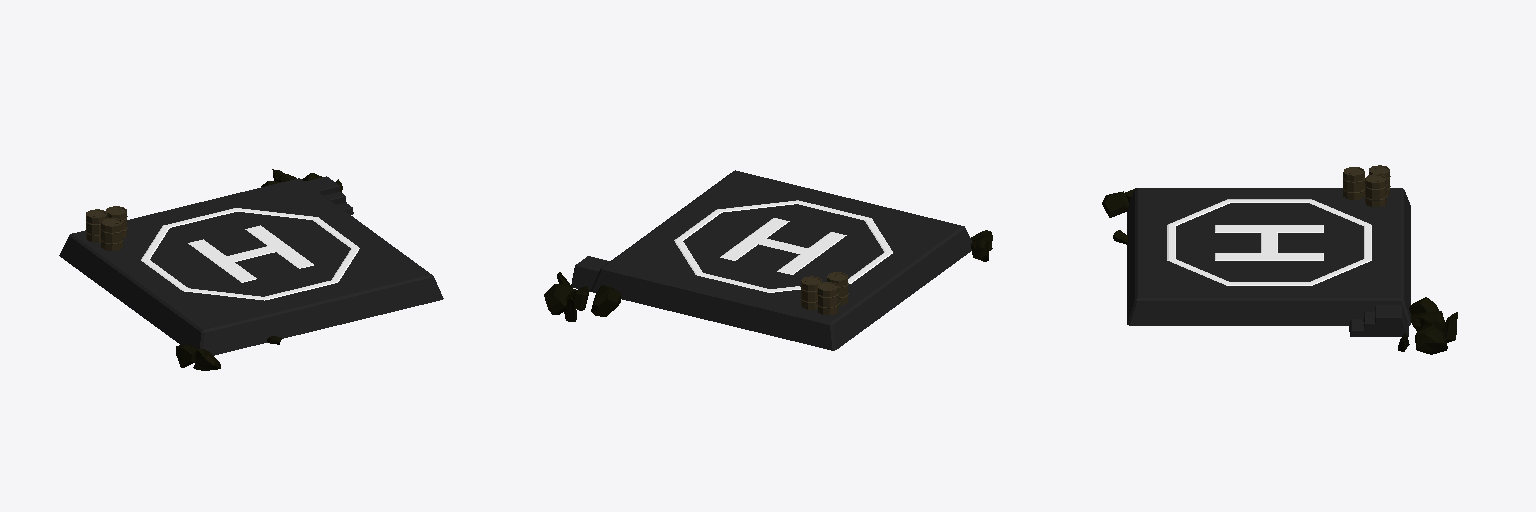
3 views of the same model, side by side, from view 1: azimuth 30°, elevation 25°; view 2: azimuth 150°, elevation 25°; view 3: azimuth 270°, elevation 25° (orthographic).
Parts seen in each view (by area): view 1: Helipad_Mesh.009; view 2: Helipad_Mesh.009; view 3: Helipad_Mesh.009.
Part boxes in pixels (bbox=[...]): Helipad_Mesh.009: bbox=[59, 169, 443, 370]; Helipad_Mesh.009: bbox=[544, 170, 992, 350]; Helipad_Mesh.009: bbox=[1102, 165, 1457, 354].
Size of the model in its own units: 8.12 by 1.71 by 8.44.